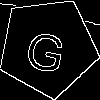G: (23, 21, 69, 74)
